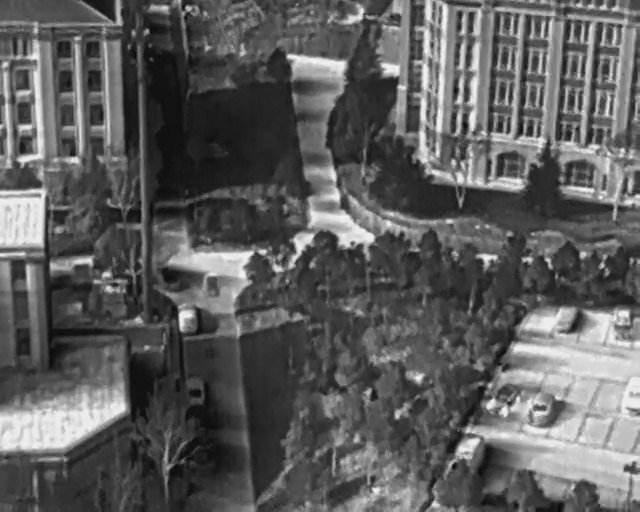Car: (482, 379, 523, 424), (525, 388, 560, 430), (622, 373, 639, 417), (178, 301, 198, 335), (560, 301, 582, 331), (185, 376, 204, 406), (203, 270, 219, 301), (613, 305, 633, 329)
OtherVehicle: (449, 429, 491, 479)
